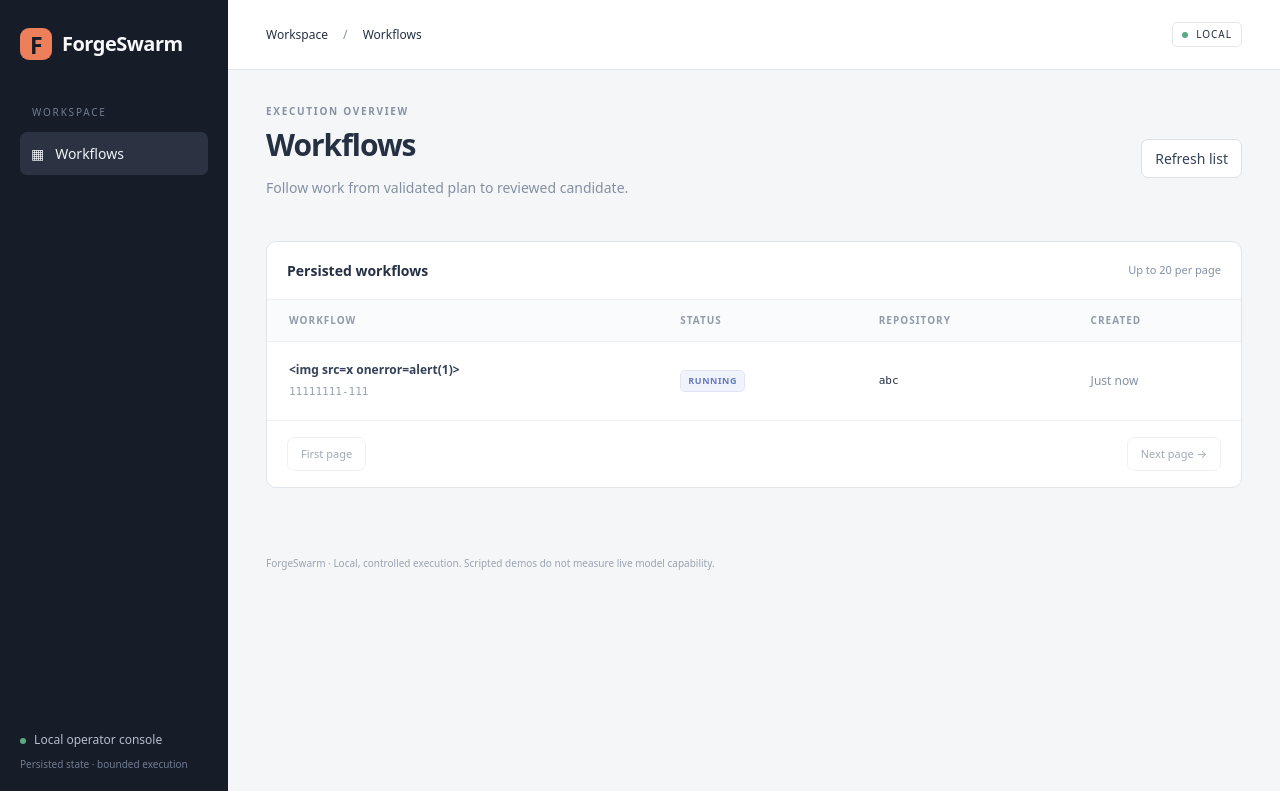
Test: shows real API data, escapes repository text and patch evidence, and reports pending cancellation
The width and height of the screenshot is (1280, 791).
Click the button "<img src=x onerror=alert(1)>". click: (374, 370)
box: left=289, top=361, right=460, bottom=379
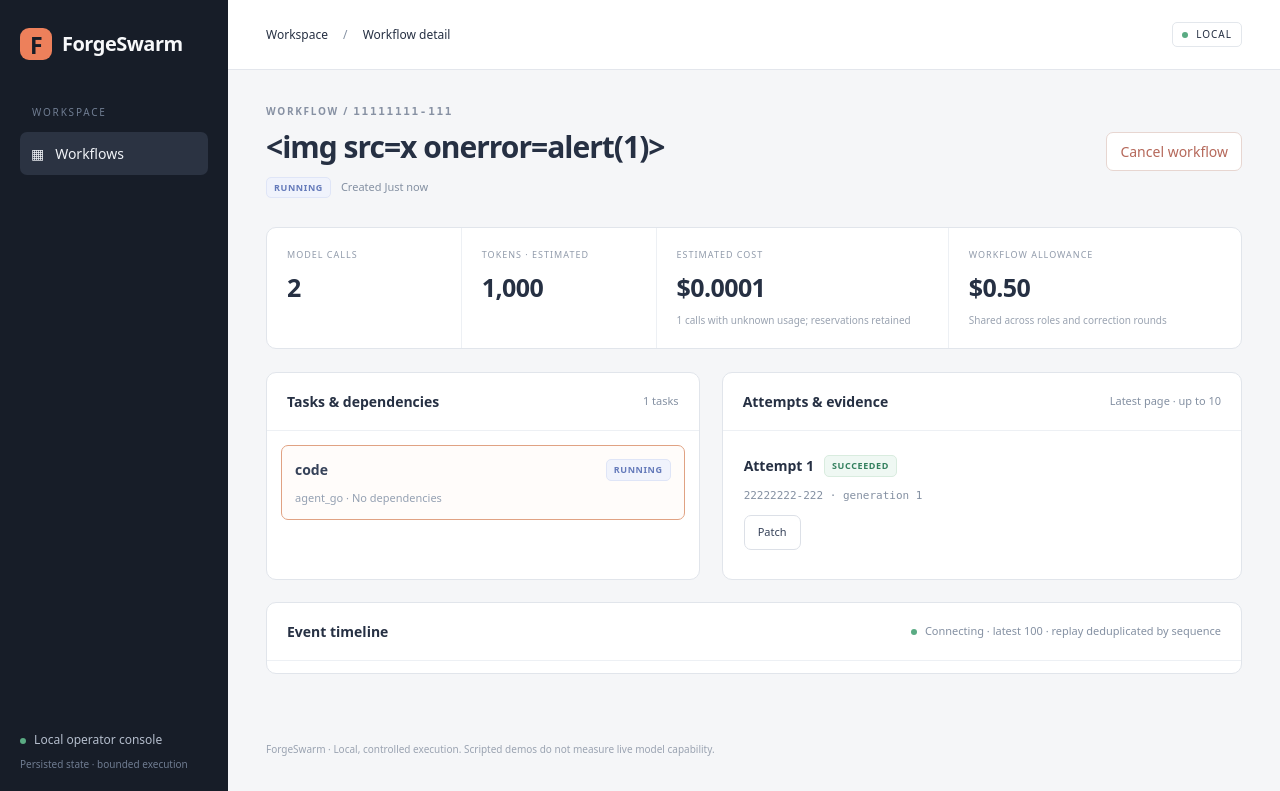
Check: the text "1 calls with unknown usage; reservations retained" is shown, box left=677, top=313, right=928, bottom=328
Click the button "Patch". click: (772, 532)
box: left=744, top=515, right=800, bottom=550
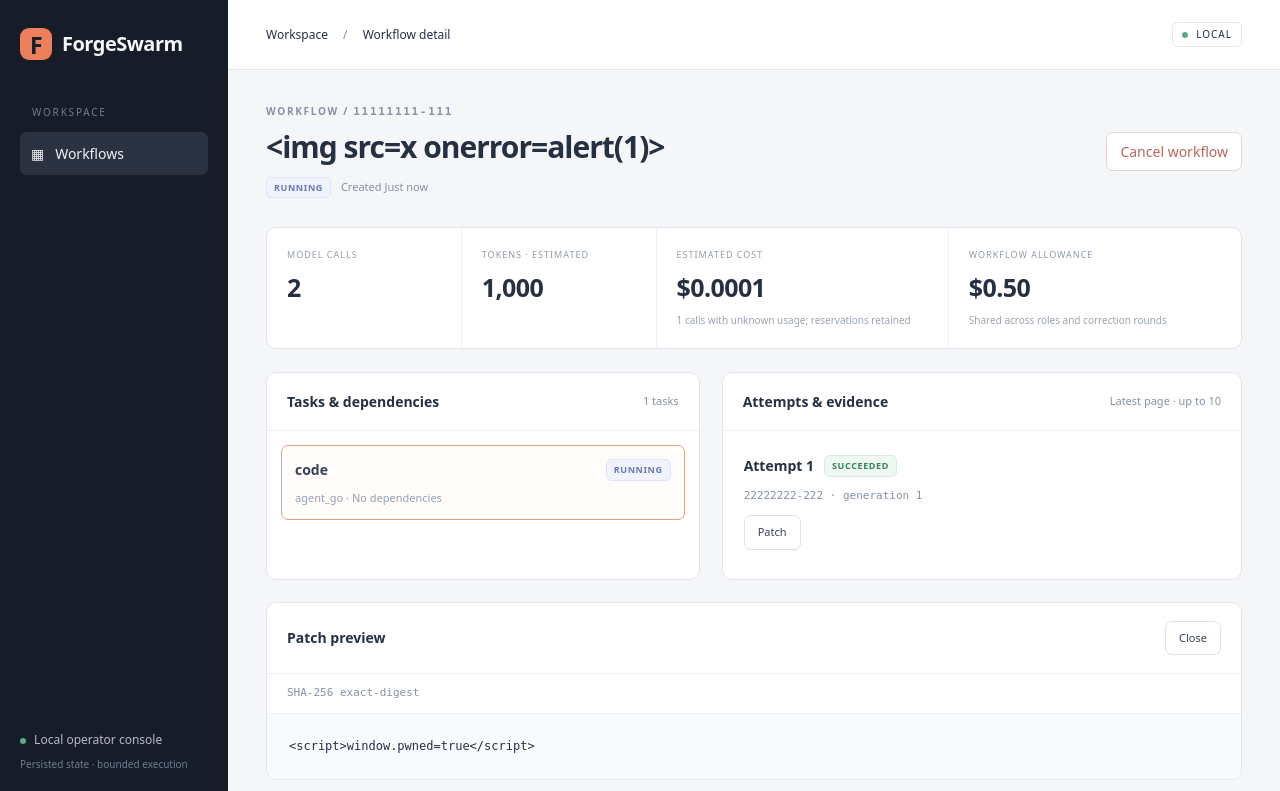
Check: the text "<script>window.pwned=true</script>" is shown, box left=267, top=712, right=1241, bottom=779
Click the button "Cancel workflow". click: (1174, 151)
box: left=1106, top=132, right=1242, bottom=170
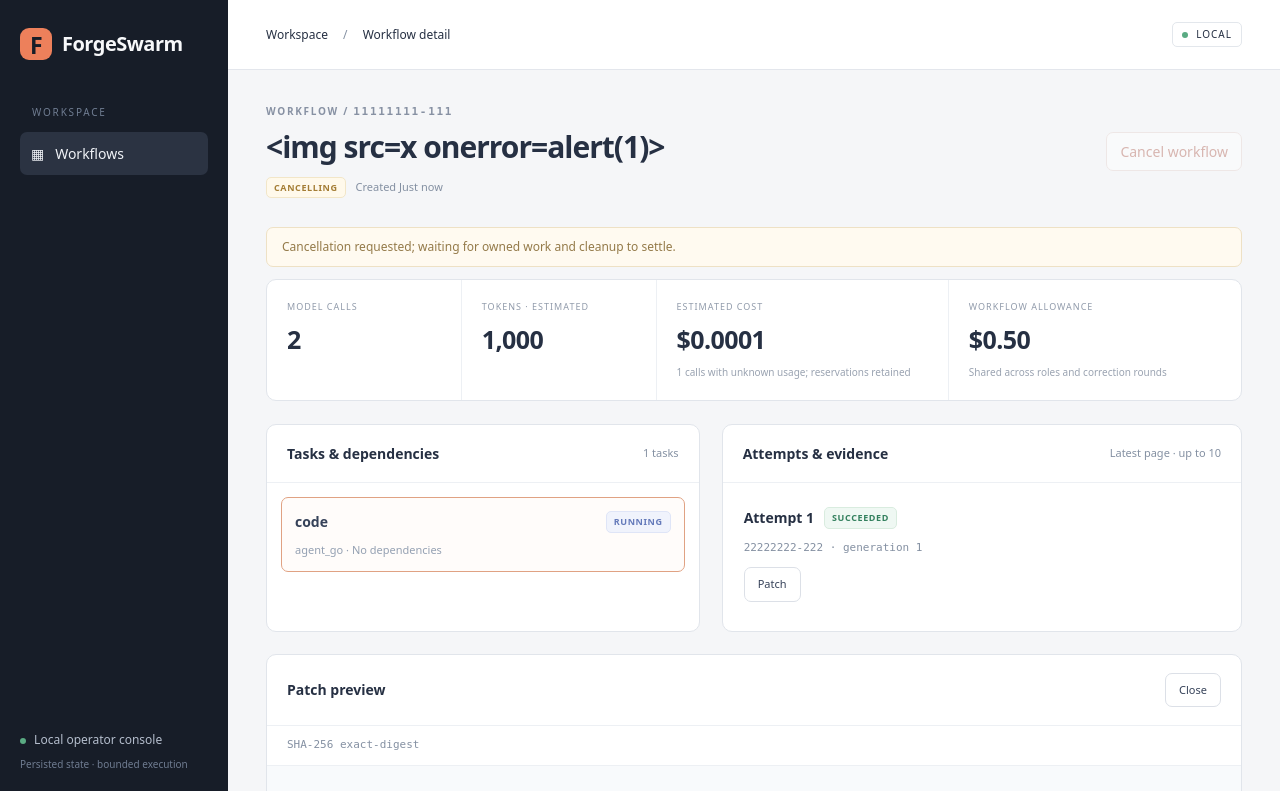
Check: the text "Cancellation requested; waiting for owned work and cleanup to settle." is shown, box left=266, top=227, right=1242, bottom=267
